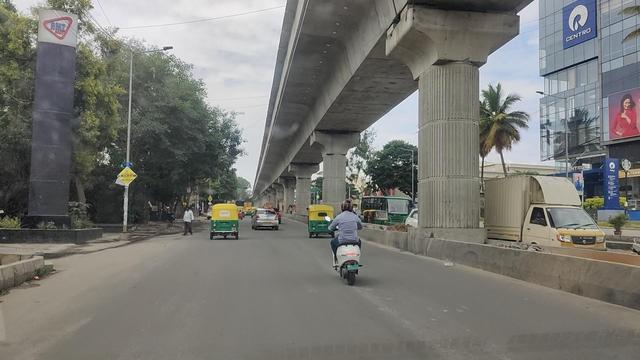LMV: (329, 195, 368, 287), (209, 202, 239, 239)
